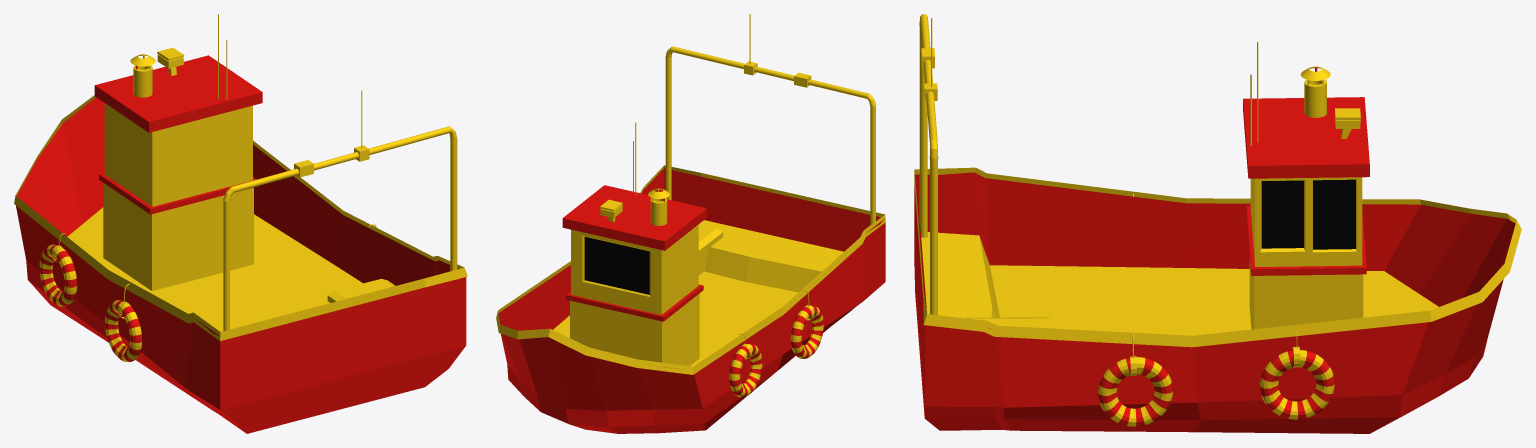
File: SM_boatV2Good.fbx
The picture shows the model from 3 angles, left to right: view 1: azimuth 30°, elevation 25°; view 2: azimuth 150°, elevation 25°; view 3: azimuth 270°, elevation 25°; orthographic projection. The views are drawn at different scales.
Parts seen in each view (by area): view 1: Cylinder002; view 2: Cylinder002; view 3: Cylinder002.
Part boxes in pixels (<box>): Cylinder002: <box>14,14,467,433</box>; Cylinder002: <box>496,14,885,433</box>; Cylinder002: <box>914,14,1521,433</box>.
Bounding box in the file's own units: 19.32 × 32.35 × 21.97.
